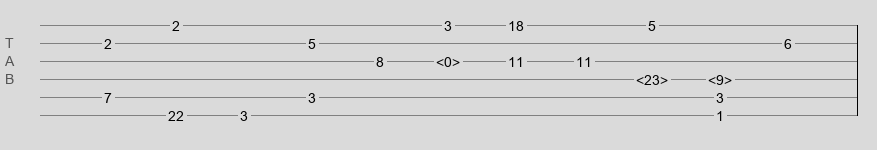1: (716, 108, 724, 118)
11: (508, 54, 524, 64), (576, 54, 592, 64)
18: (508, 18, 524, 28)
2: (104, 36, 112, 46), (172, 18, 180, 28)
22: (168, 108, 184, 118)
3: (240, 108, 248, 118), (308, 90, 316, 100), (444, 18, 452, 28), (716, 90, 724, 100)
5: (308, 36, 316, 46), (648, 18, 656, 28)
6: (784, 36, 792, 46)
7: (104, 90, 112, 100)
8: (376, 54, 384, 64)
harmonic: (636, 72, 668, 82), (436, 54, 460, 64), (708, 72, 732, 82)
